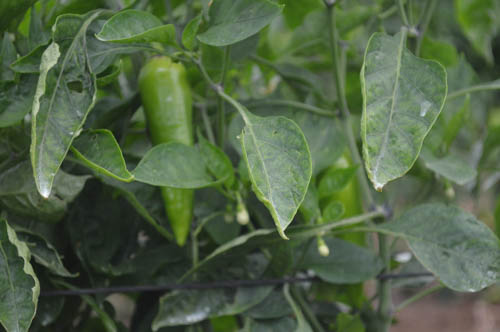ChiliPepper: (136, 59, 198, 252)
